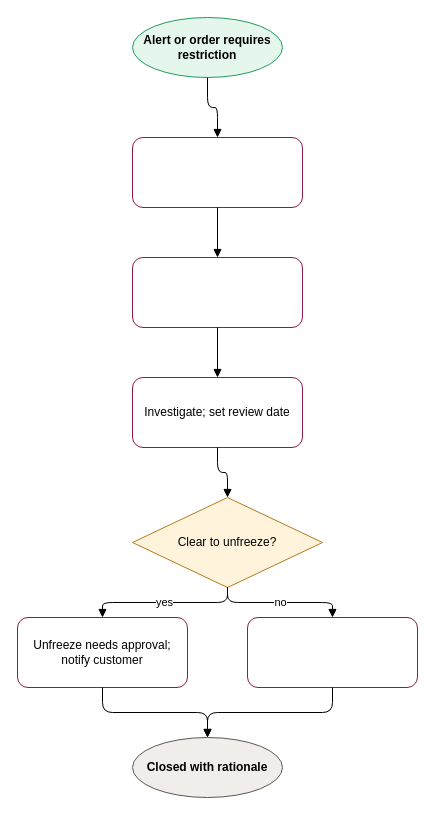
This 435x815 diagram has some shape labels left out. Each missing label, with the centre of its shape:
Apply restriction immediately; neutral customer message: the point at 217,292
Keep restriction; escalate or report: the point at 332,652
Request freeze with reason: the point at 217,172
